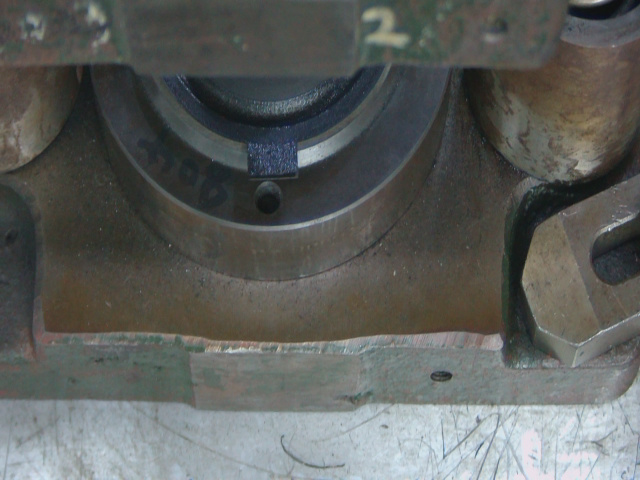HX1: (246, 139, 310, 188)
